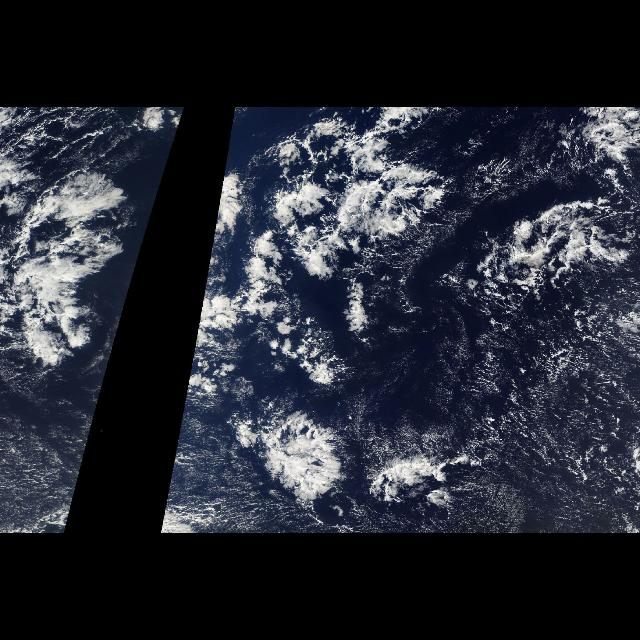Flower: (200, 107, 456, 513)
Gravel: (541, 315, 639, 533)
Sugar: (444, 313, 634, 533), (160, 415, 246, 533), (10, 415, 94, 533)
